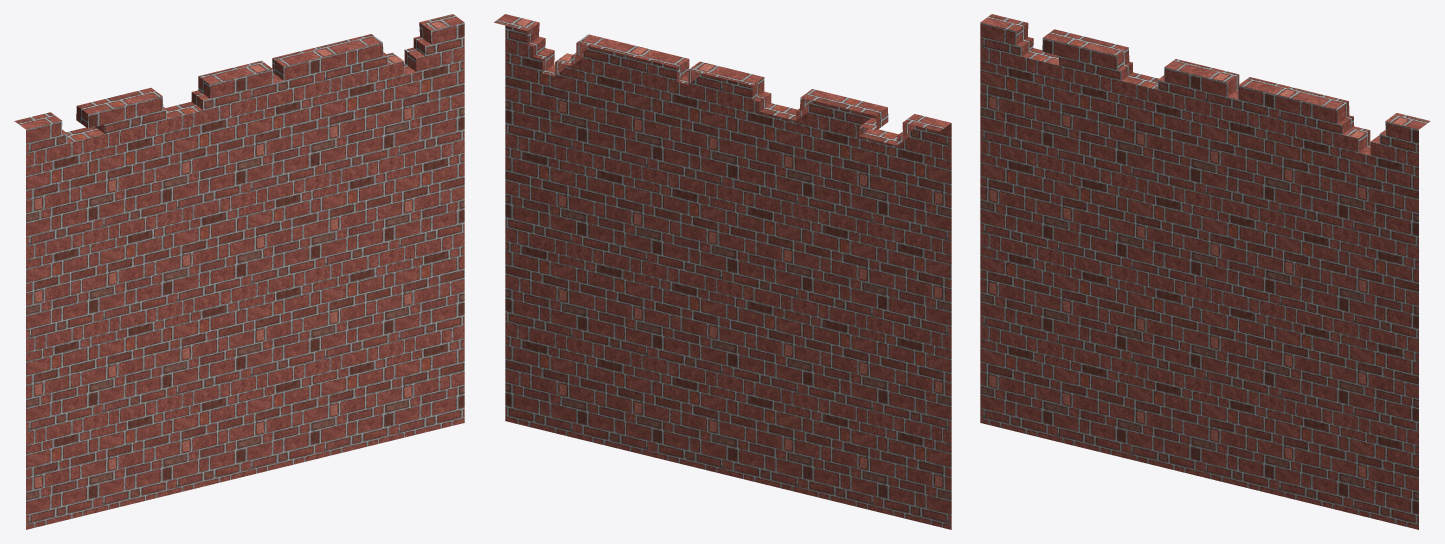
The model's file is WALL FINAL 02.fbx.
The picture shows the model from 3 angles, left to right: view 1: azimuth 30°, elevation 25°; view 2: azimuth 150°, elevation 25°; view 3: azimuth 330°, elevation 25°; orthographic projection.
Parts seen in each view (by area): view 1: pCube1; view 2: pCube1; view 3: pCube1.
Boxes of the visible parts, x1,y1,x2,y2 form: pCube1: [14, 14, 464, 529]; pCube1: [494, 14, 951, 529]; pCube1: [980, 14, 1430, 529].
Size of the model in its own units: 3.52 by 3.07 by 0.1616.
1 material, 1 textured.
